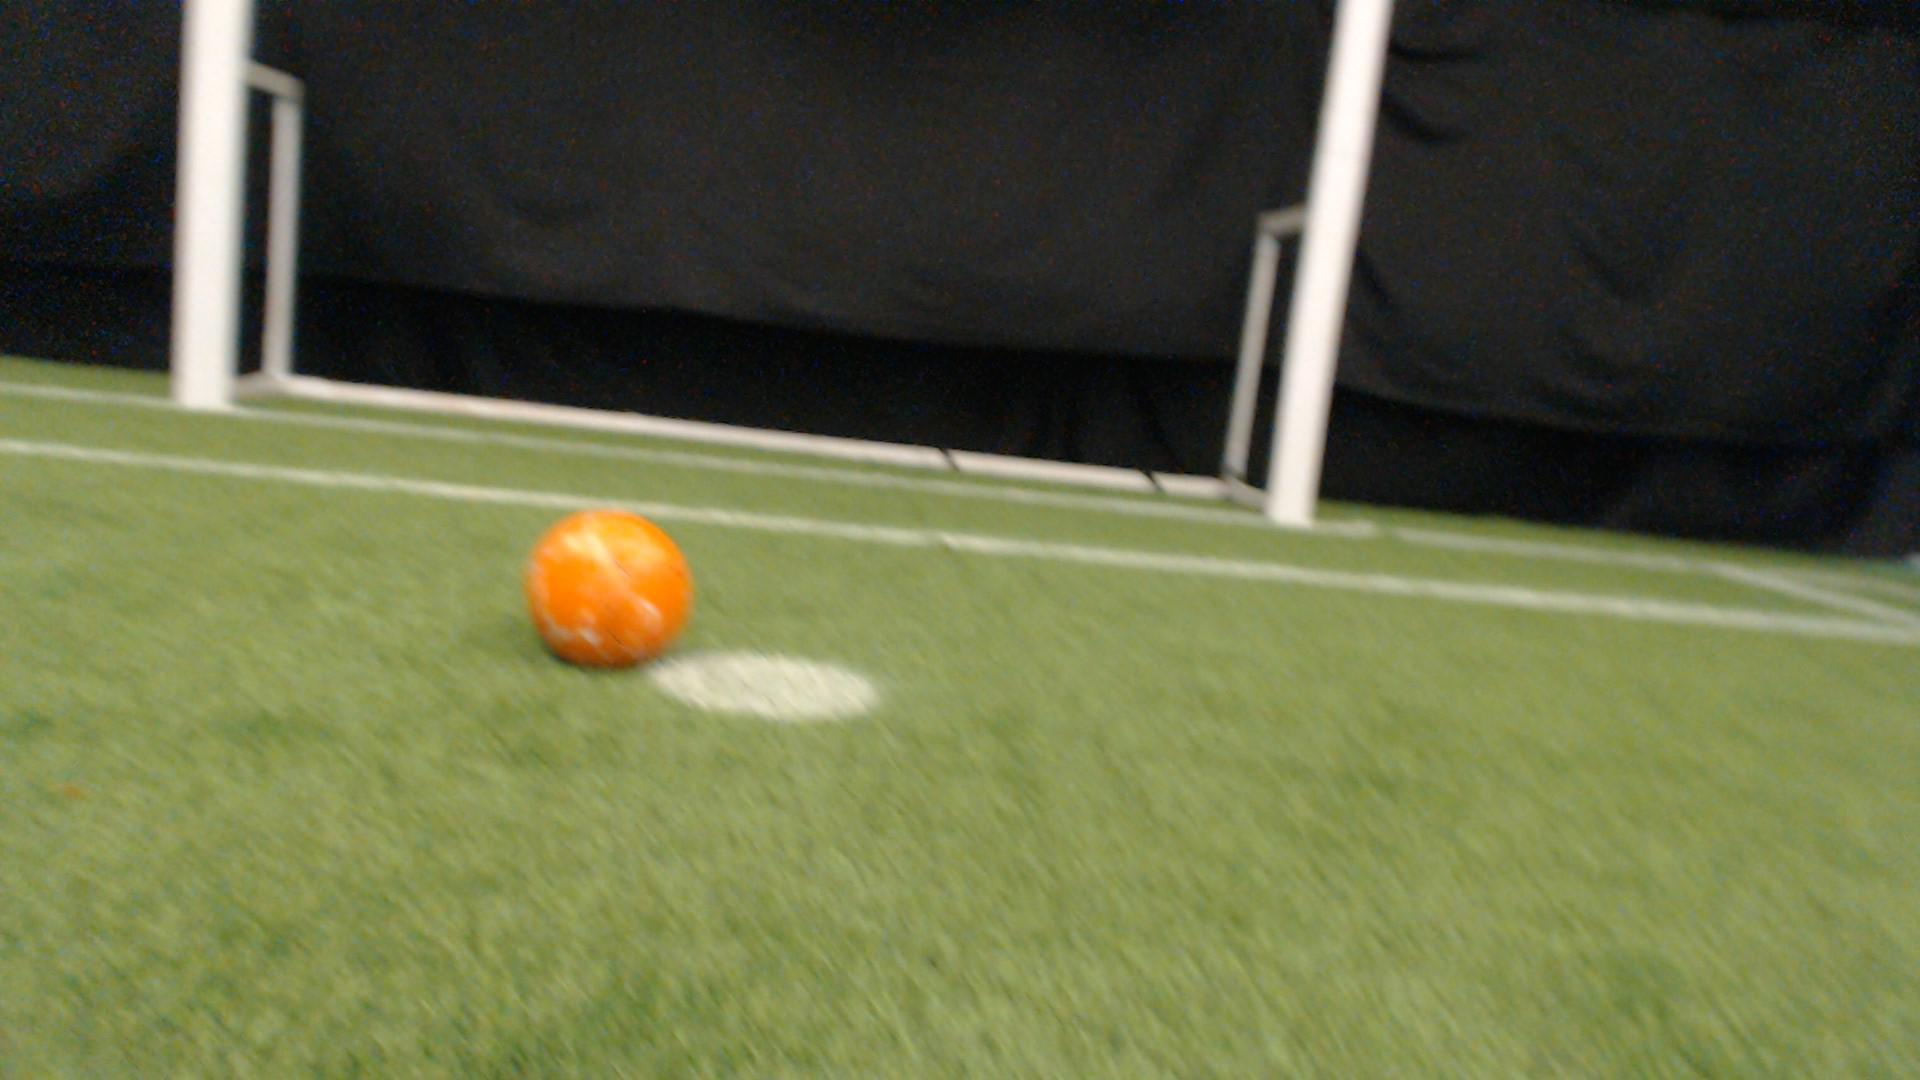bola: (512, 505, 719, 669)
